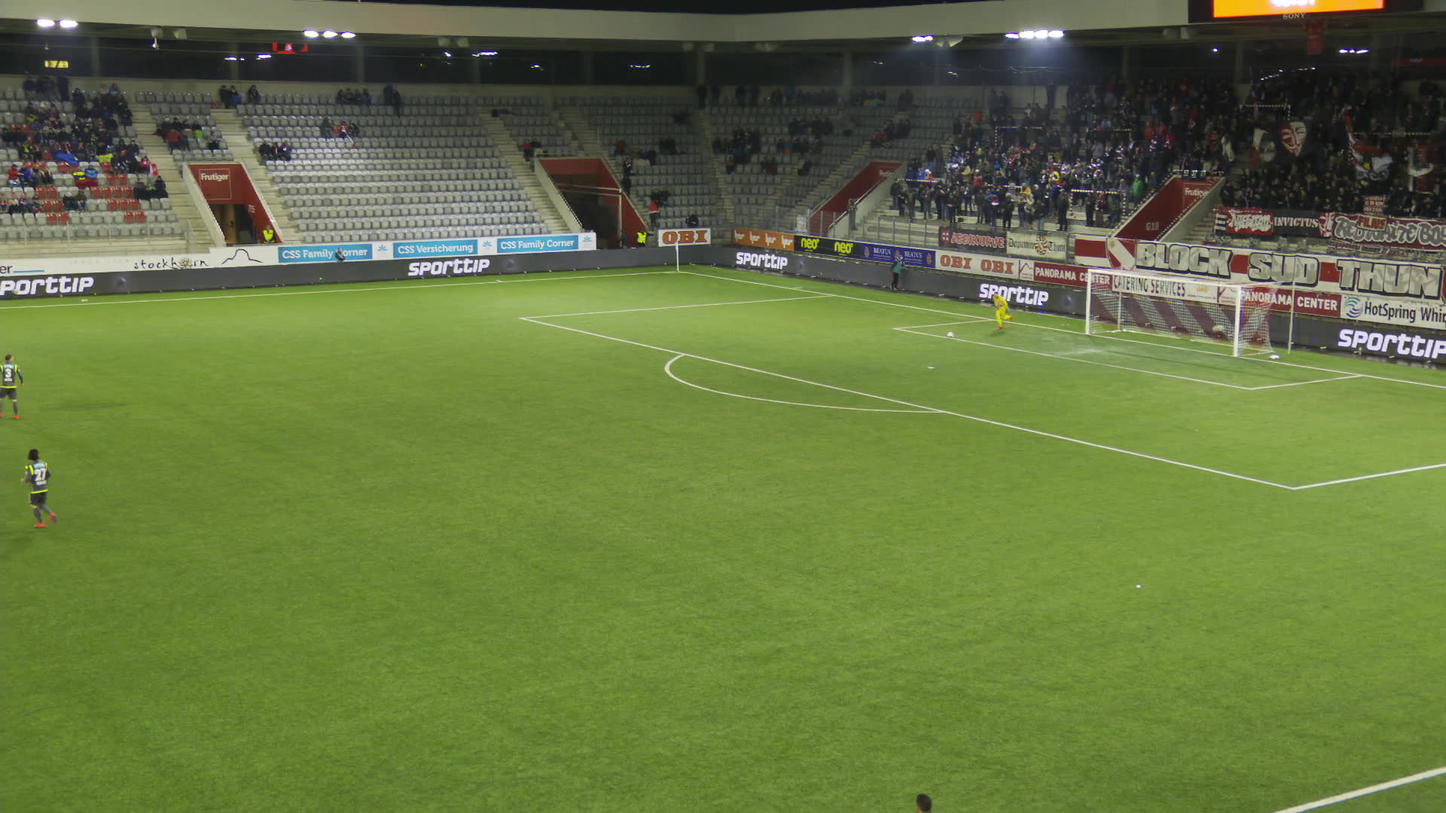ball: (947, 331, 953, 338)
player: (22, 448, 58, 527), (0, 352, 25, 420), (993, 291, 1014, 327)
referee: (915, 793, 932, 812)
